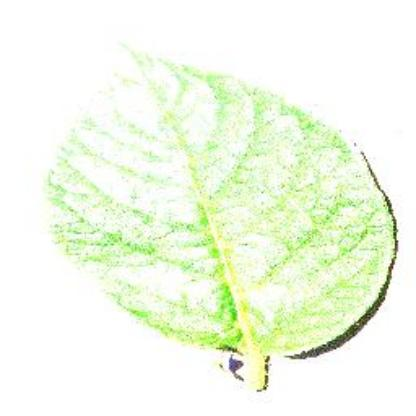Healthy-plant: (42, 25, 410, 392)
